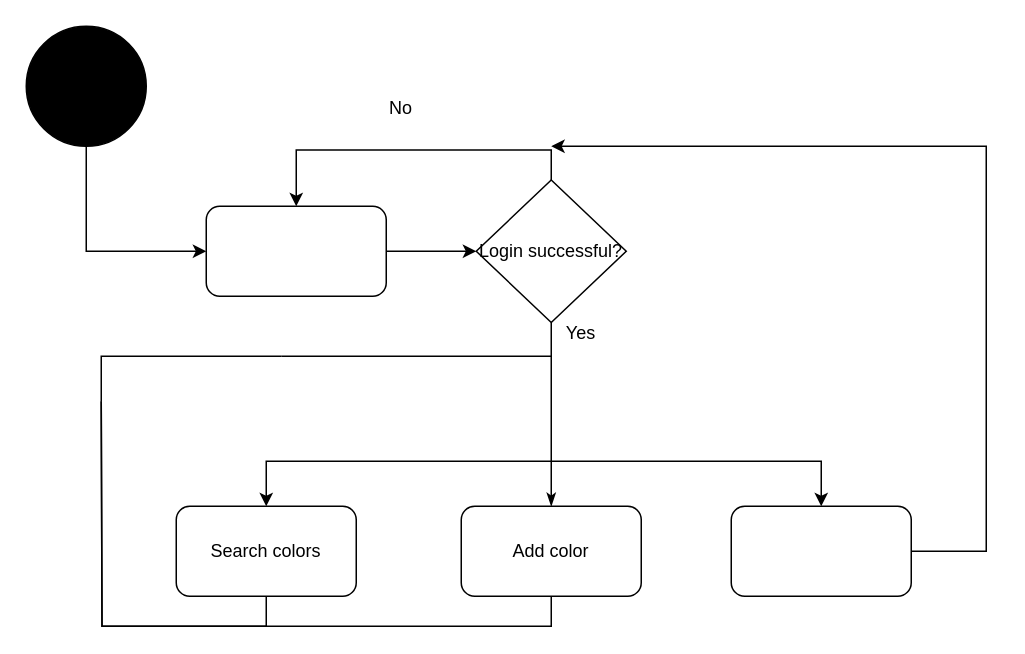
The diagram is 1025 pixels wide and 654 high, and some of its shapes have lost their labels. The centre of each missing label's shape, as x and y in pixels:
"Login" belongs at pixel 295 250.
"Logout" belongs at pixel 820 550.
